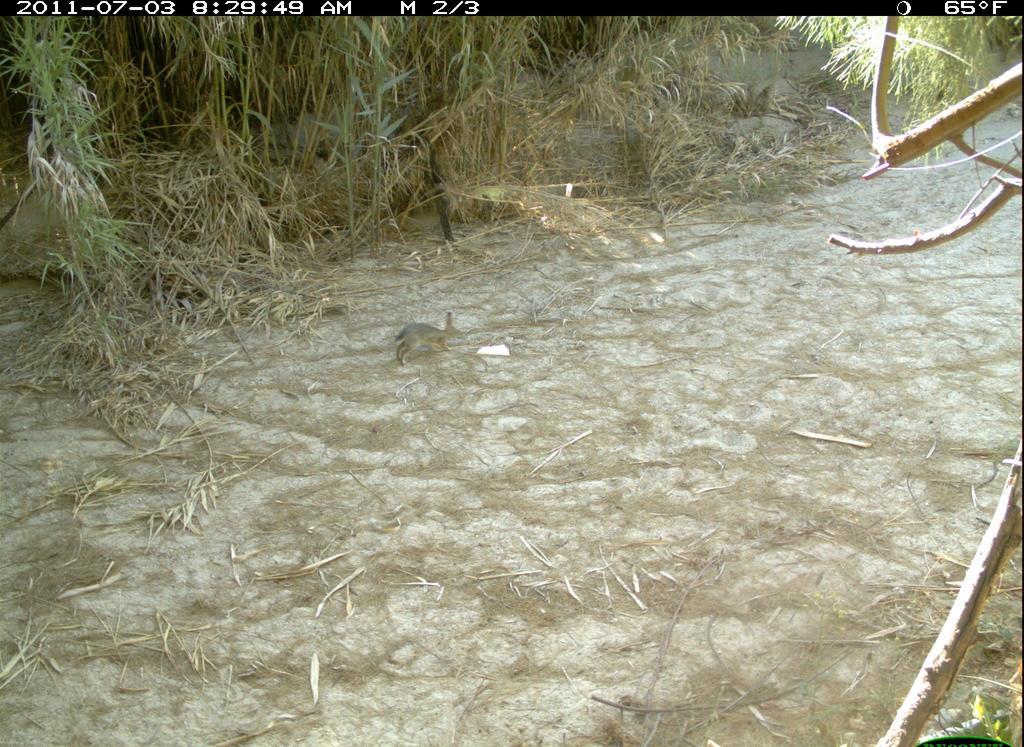rabbit: (387, 309, 469, 378)
